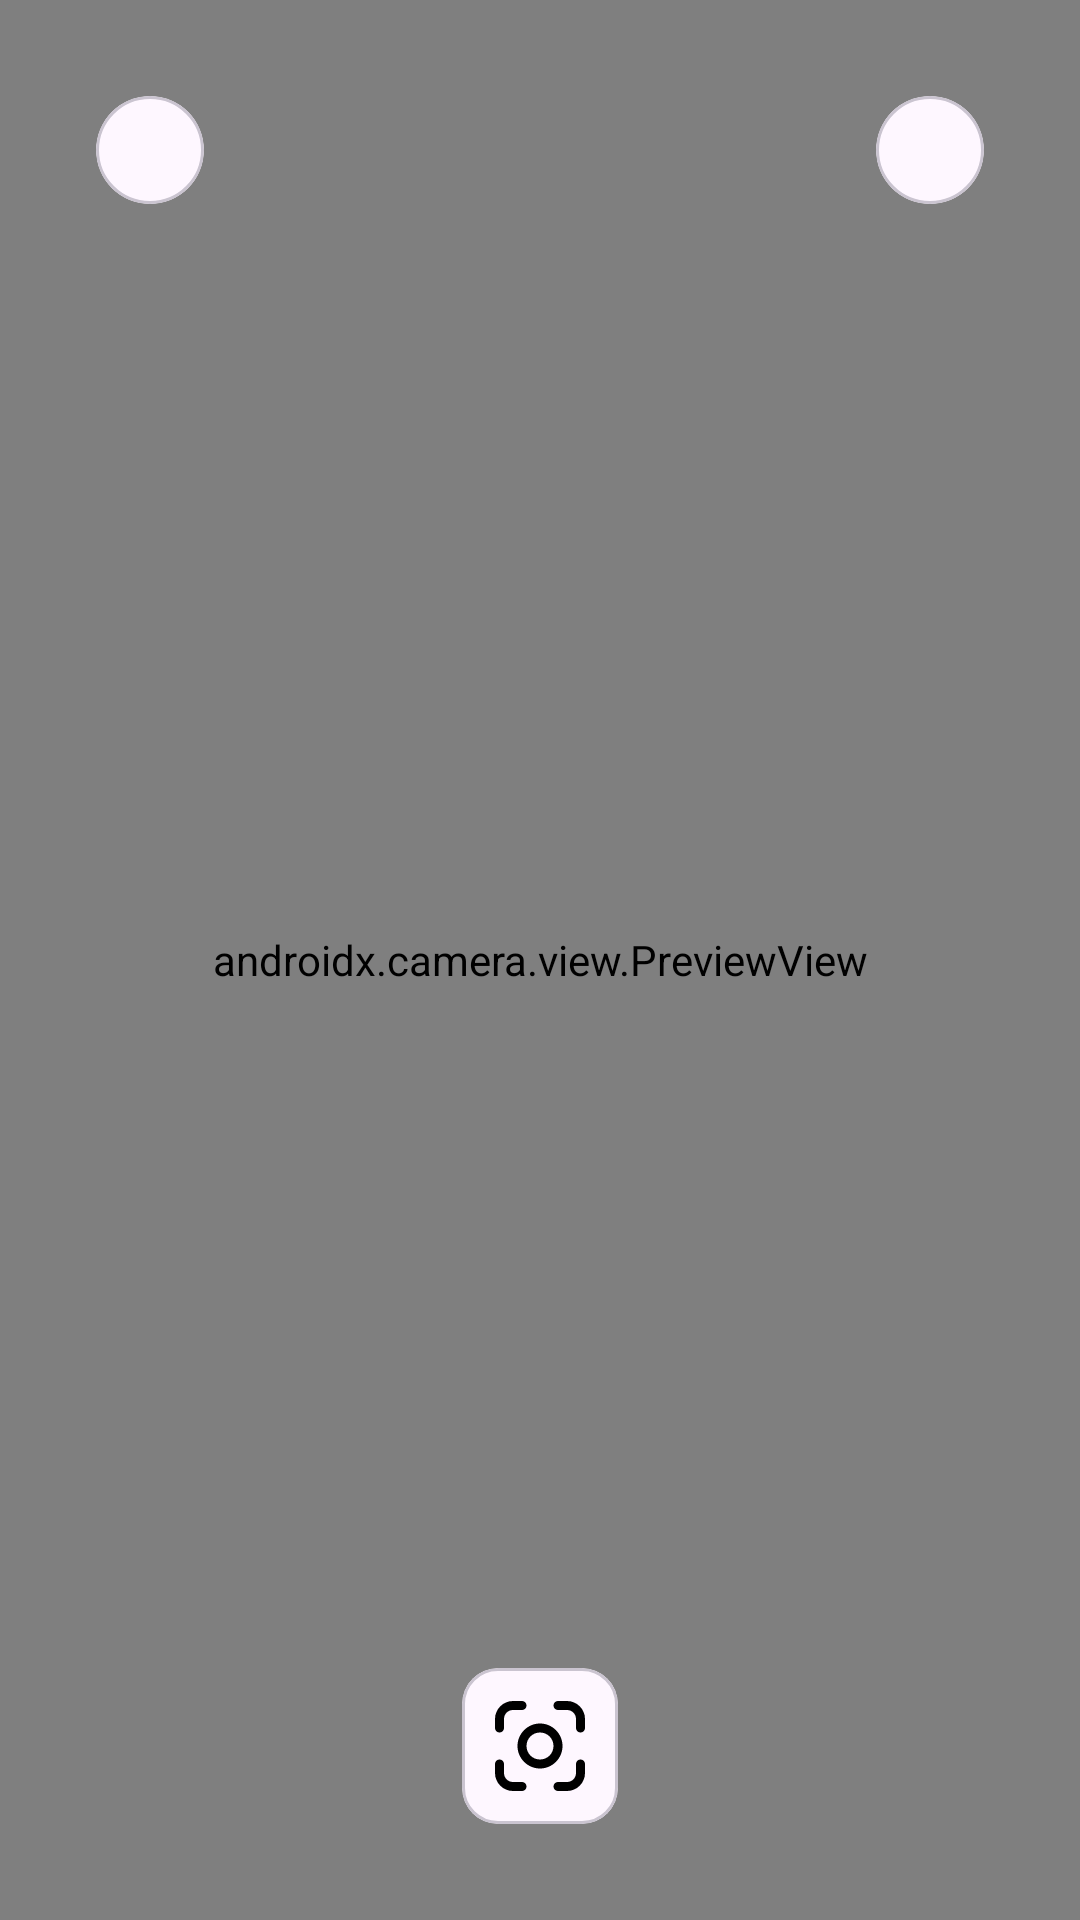

Icon bounding boxes for this 1080w x 1920h phone screenshot, format detection(x1, y1, x2, y2):
scan: detection(495, 1701, 585, 1791)
